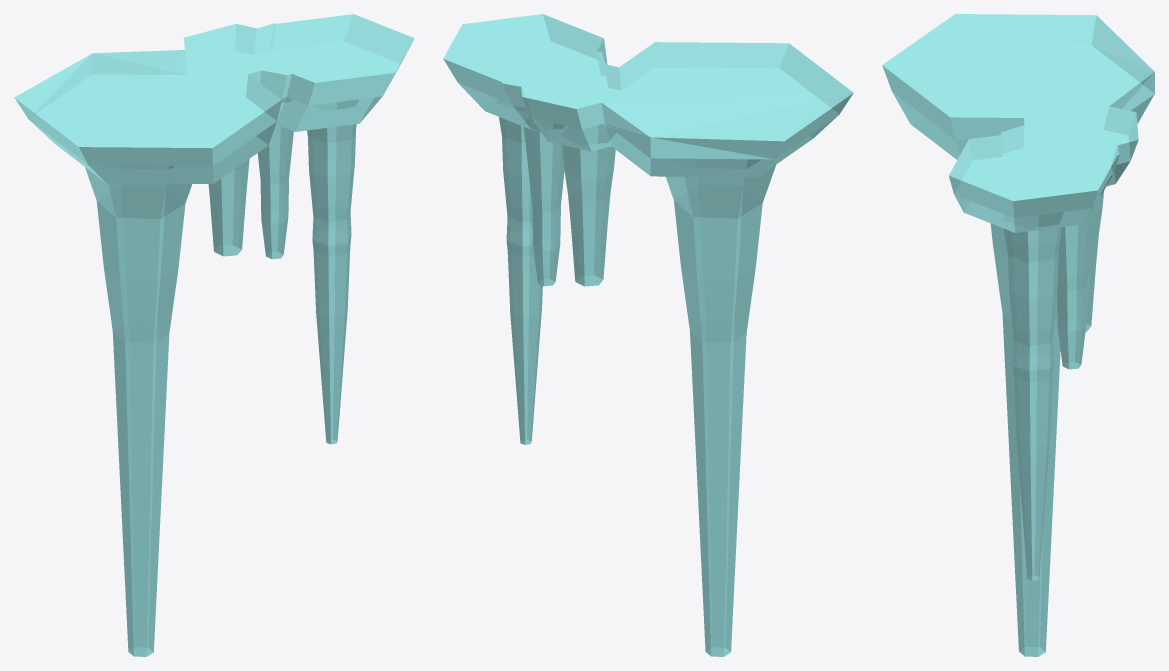
File: Stalactite_Ice_03.fbx
3 views of the same model, side by side, from view 1: azimuth 30°, elevation 25°; view 2: azimuth 150°, elevation 25°; view 3: azimuth 270°, elevation 25° (orthographic). The views are drawn at different scales.
Parts seen in each view (by area): view 1: Model; view 2: Model; view 3: Model.
Boxes of the visible parts, left/top/right/bottom form: Model: left=14, top=14, right=414, bottom=656; Model: left=443, top=14, right=853, bottom=656; Model: left=882, top=14, right=1154, bottom=656.
Bounding box in the file's own units: 677 × 990 × 417.
